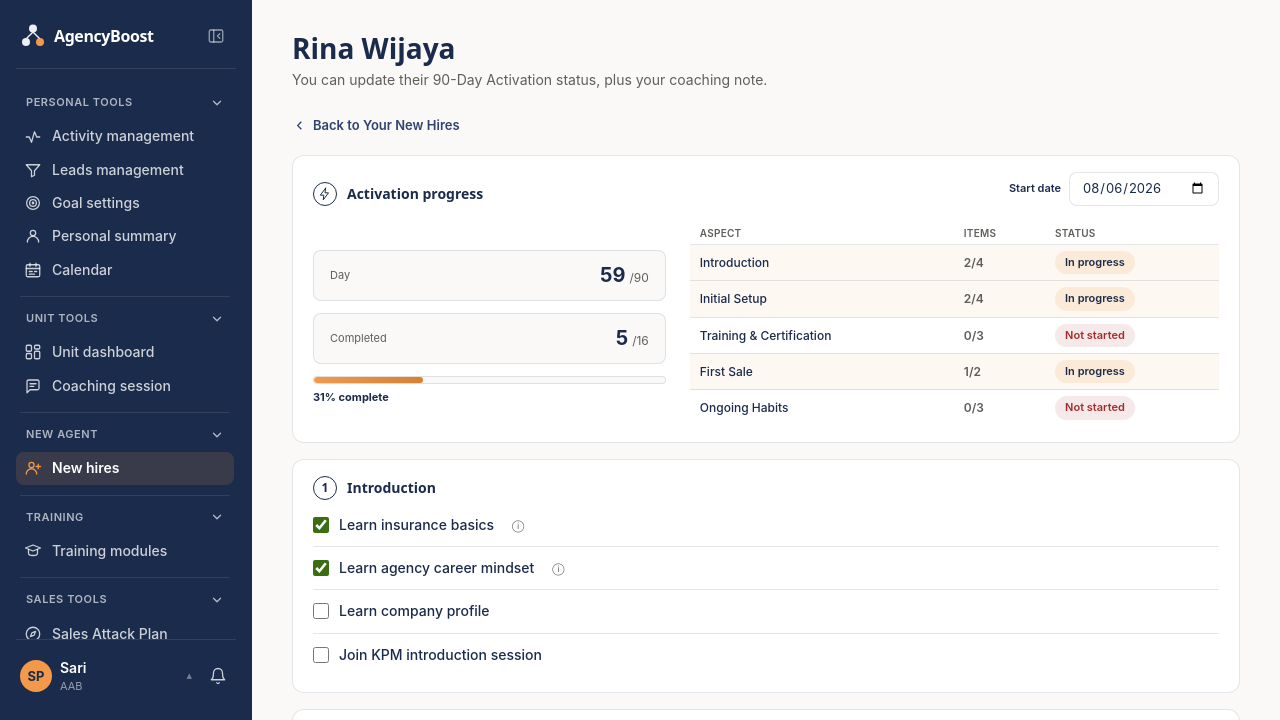
Test: /new-hires/[membershipId], one hire as a leader reads it (P13-T5, P13-T6) › P13-T5 AC-5 a correction the server refuses puts the date back and says why
The width and height of the screenshot is (1280, 720).
Type "2026-08-01" into the date field labelled "Start date" at (1144, 189), box [1069,172,1219,206]
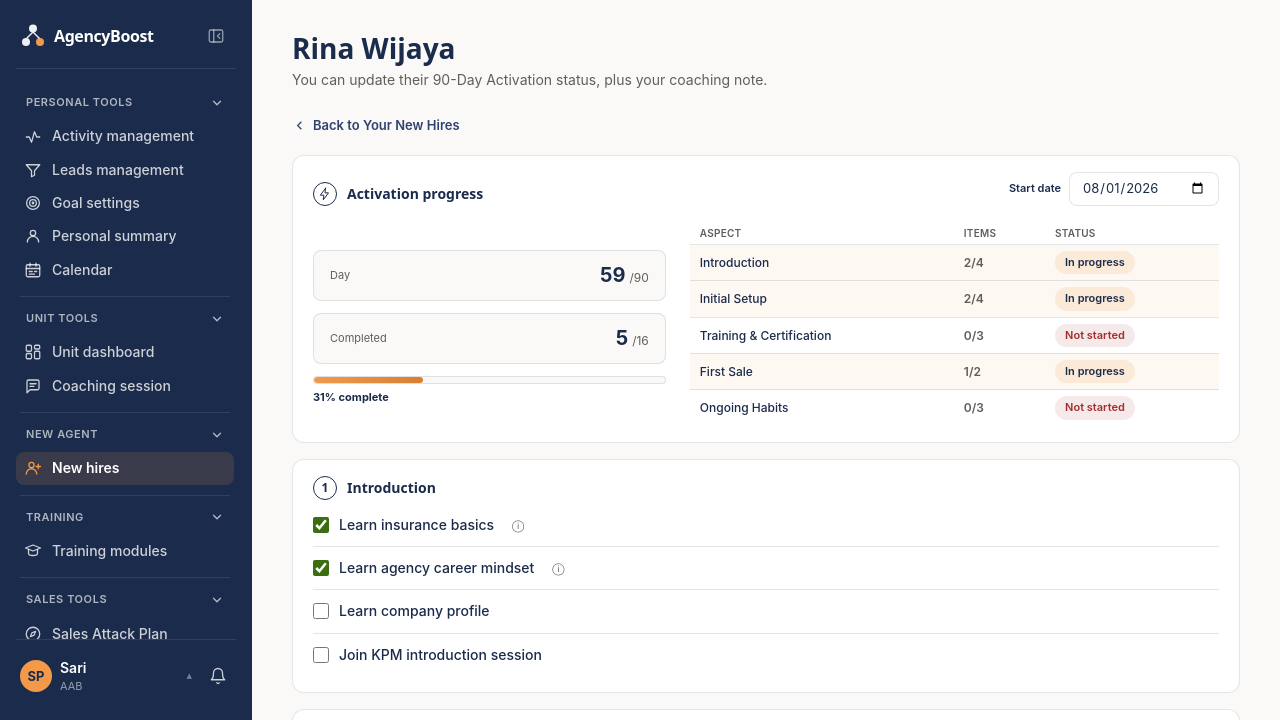
Leave the date field labelled "Start date", box [1069,172,1219,206]
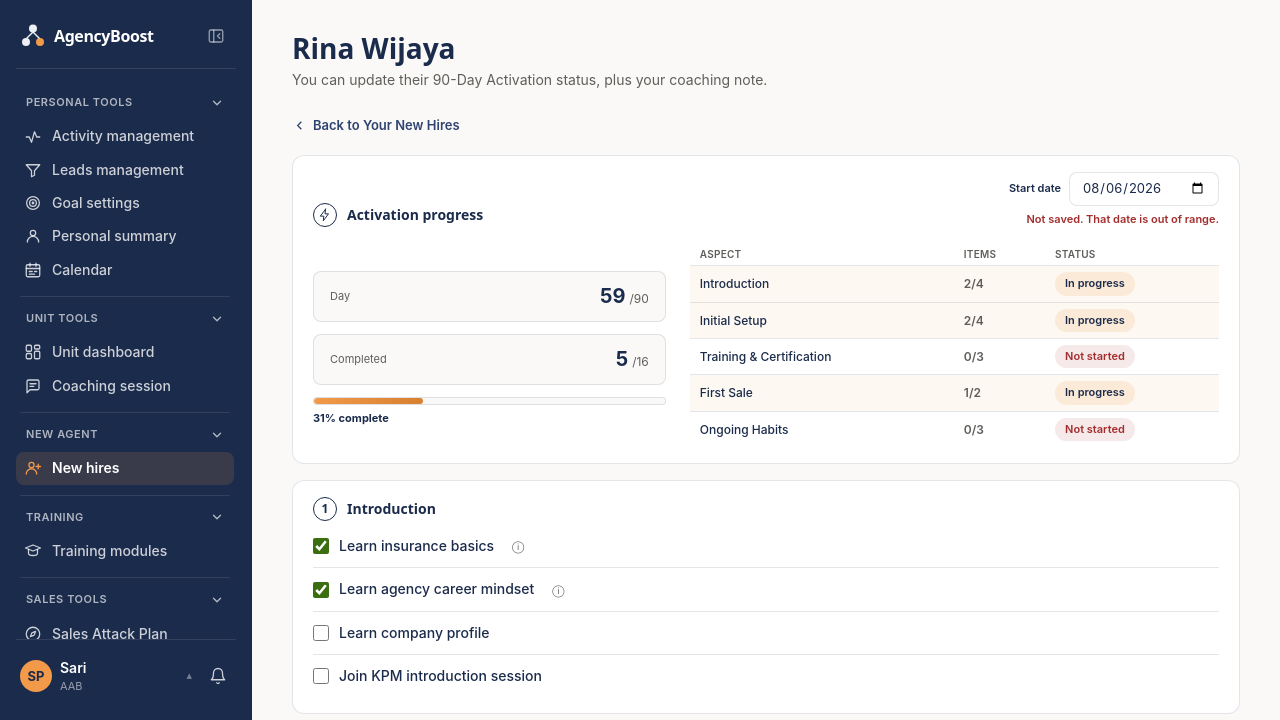
expect the text "Not saved. That date is out of range." is shown: met, box [1026,212,1219,227]
expect the date field labelled "Start date" holds "2026-08-06": met, box [1069,172,1219,206]
